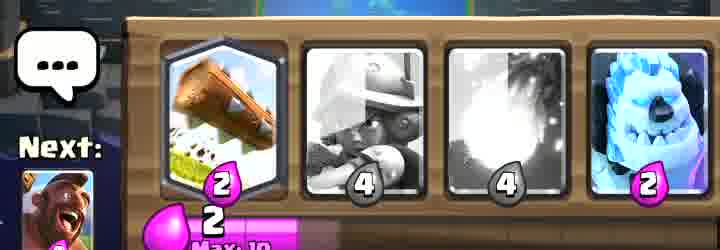hog-rider: (23, 171, 93, 250)
ice-golem: (591, 51, 706, 198)
log: (168, 43, 280, 186)
